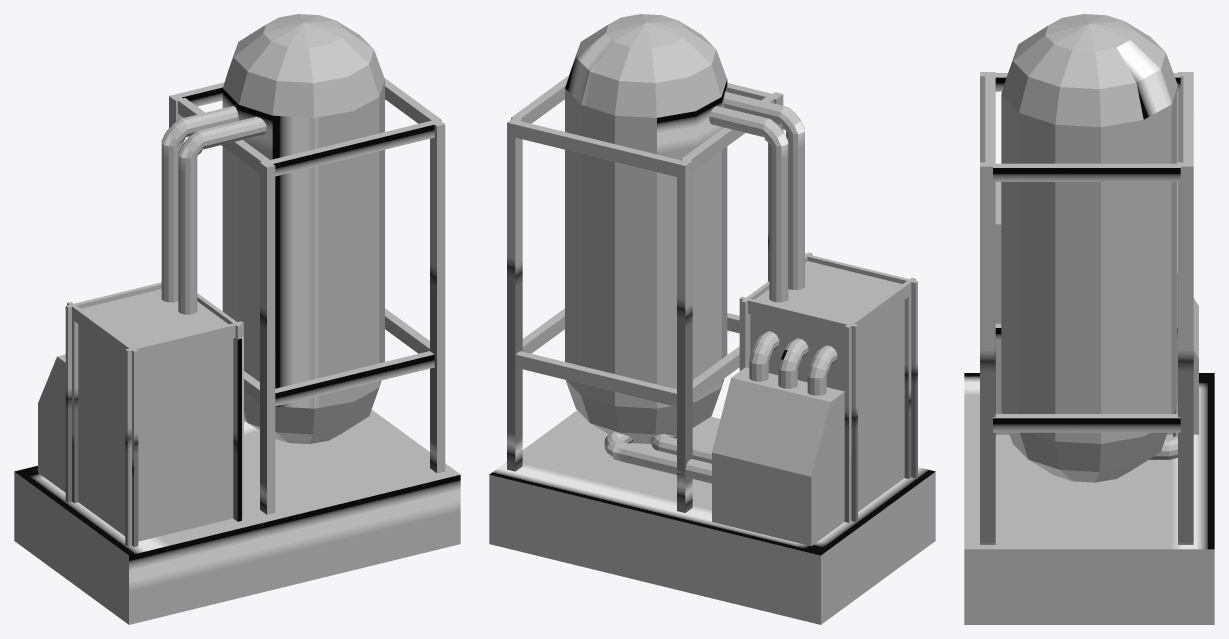
The model's file is catalytic_reformer.obj.
The picture shows the model from 3 angles, left to right: view 1: azimuth 30°, elevation 25°; view 2: azimuth 150°, elevation 25°; view 3: azimuth 270°, elevation 25°; orthographic projection. The views are drawn at different scales.
Parts seen in each view (by area): view 1: mesh; view 2: mesh; view 3: mesh.
Part boxes in pixels (x1,y1,x2,y2): mesh: [14, 14, 460, 624]; mesh: [489, 14, 935, 624]; mesh: [964, 14, 1214, 624].
Size of the model in its own units: 5 by 7.25 by 3.
